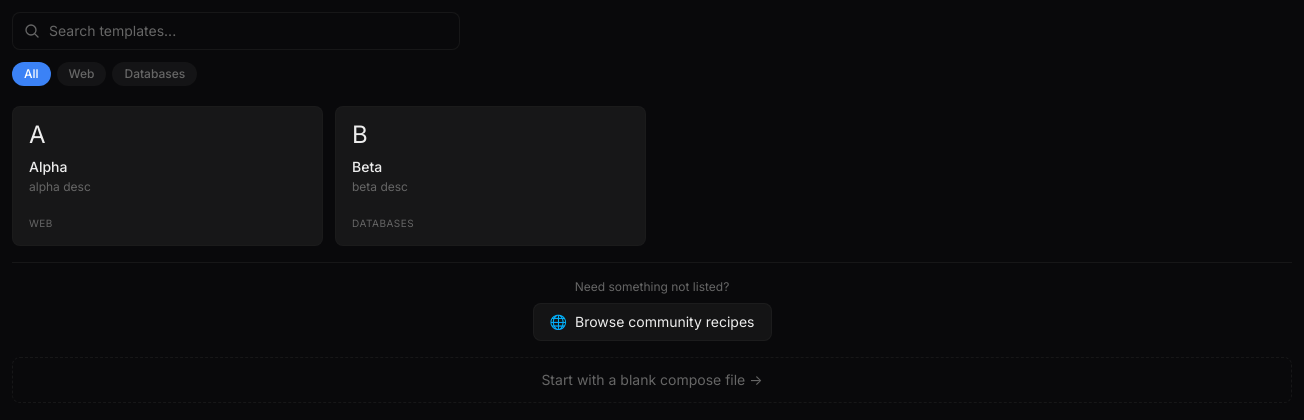
Scenario: TemplatePicker (grid) › filters by search term
In the field with placeholder "Search templates...": (236, 31) [12,12,460,50], type "beta"
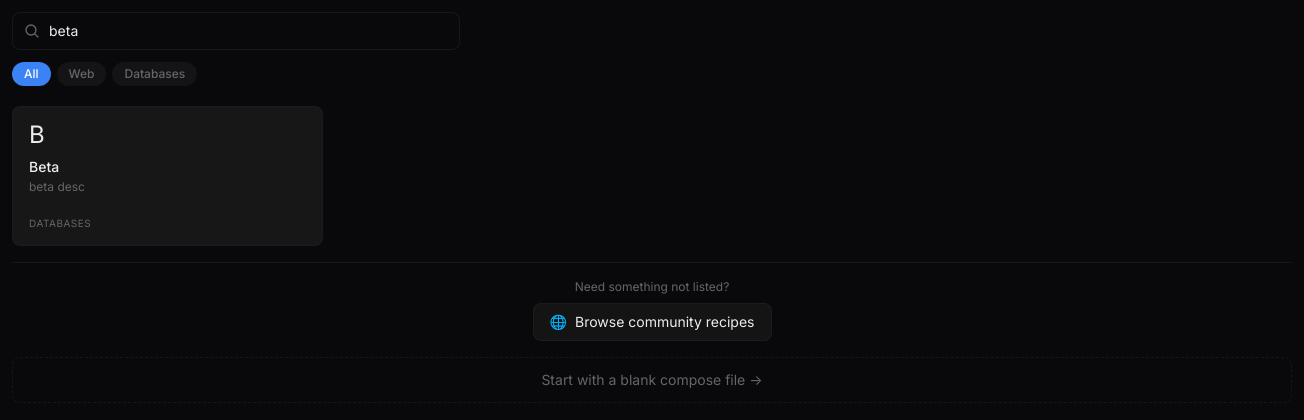
Expected: the text "Beta" is shown, [29,158,59,175]
Expected: the button "Alpha" is gone
